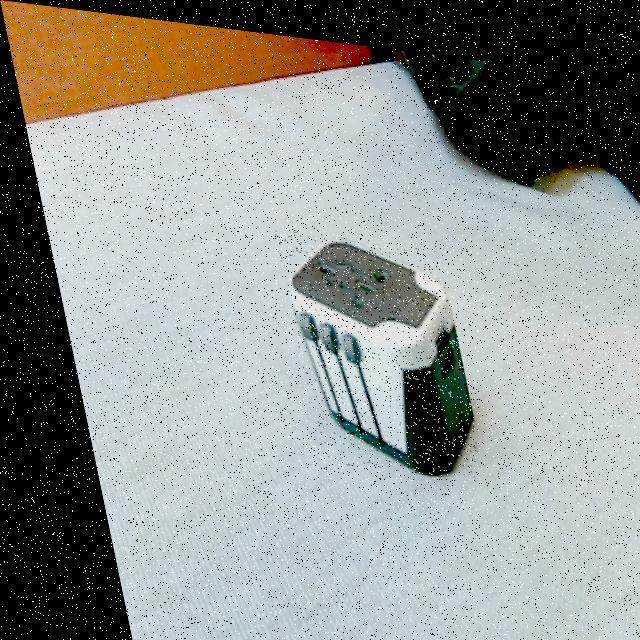adapter: (266, 222, 469, 472)
